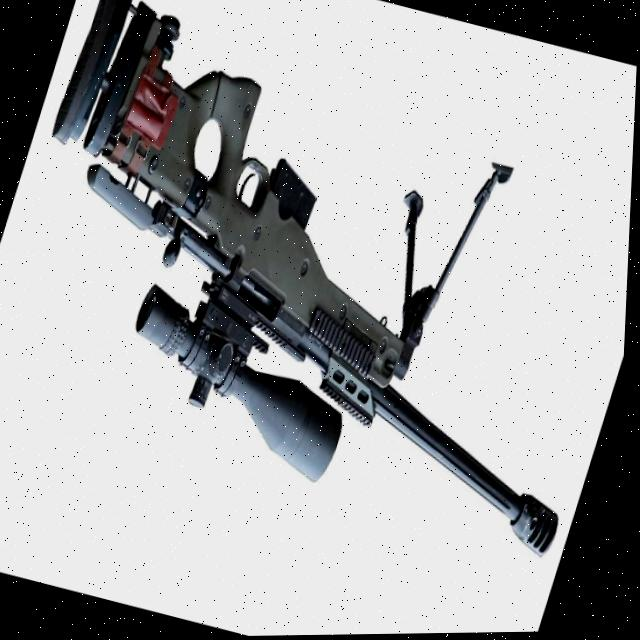firearm: (0, 0, 640, 570)
